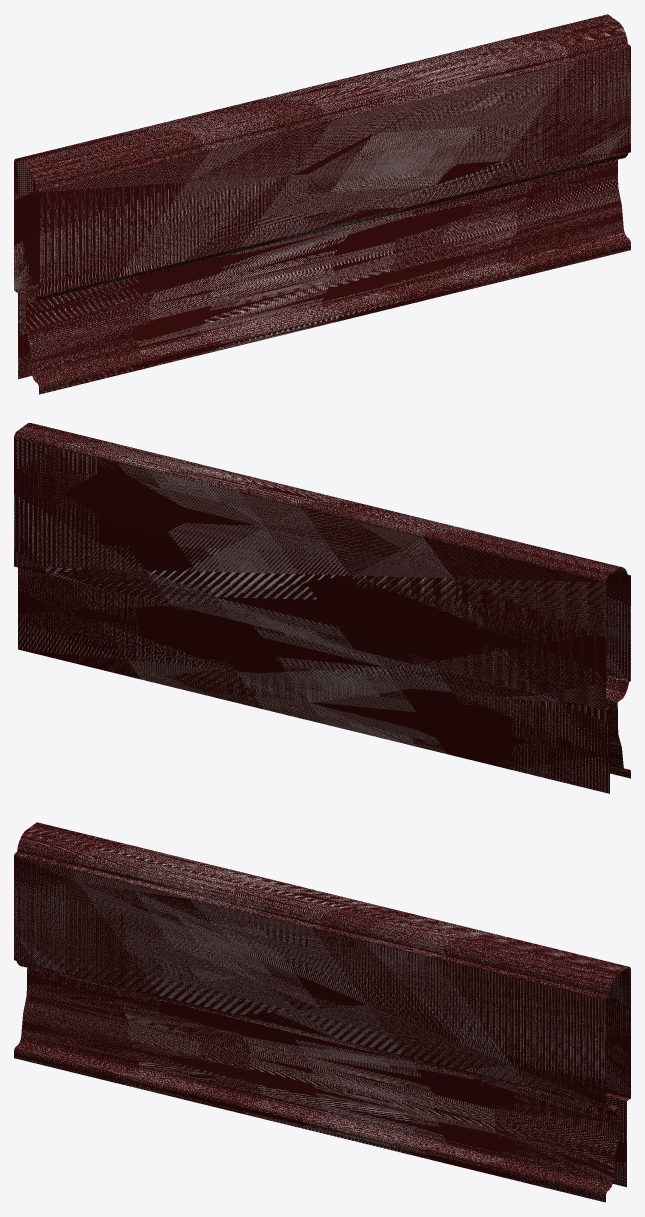
The model's file is original-42.obj.
The picture shows the model from 3 angles, top to bottom: view 1: azimuth 30°, elevation 25°; view 2: azimuth 150°, elevation 25°; view 3: azimuth 330°, elevation 25°; orthographic projection.
Parts seen in each view (by area): view 1: LT_11_TC1/LT_11_TC/mesh33/mesh33-geometry#mesh33-geometry; view 2: LT_11_TC1/LT_11_TC/mesh33/mesh33-geometry#mesh33-geometry; view 3: LT_11_TC1/LT_11_TC/mesh33/mesh33-geometry#mesh33-geometry.
Part boxes in pixels (<box>): LT_11_TC1/LT_11_TC/mesh33/mesh33-geometry#mesh33-geometry: <box>14,14,630,394</box>; LT_11_TC1/LT_11_TC/mesh33/mesh33-geometry#mesh33-geometry: <box>14,423,630,793</box>; LT_11_TC1/LT_11_TC/mesh33/mesh33-geometry#mesh33-geometry: <box>14,822,630,1202</box>.
Size of the model in its own units: 0.3889 by 0.1375 by 0.0285.
